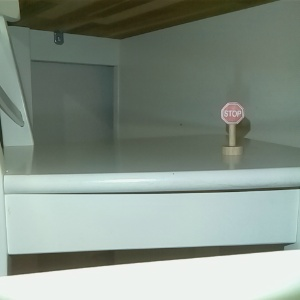stop sign: (219, 101, 245, 157)
